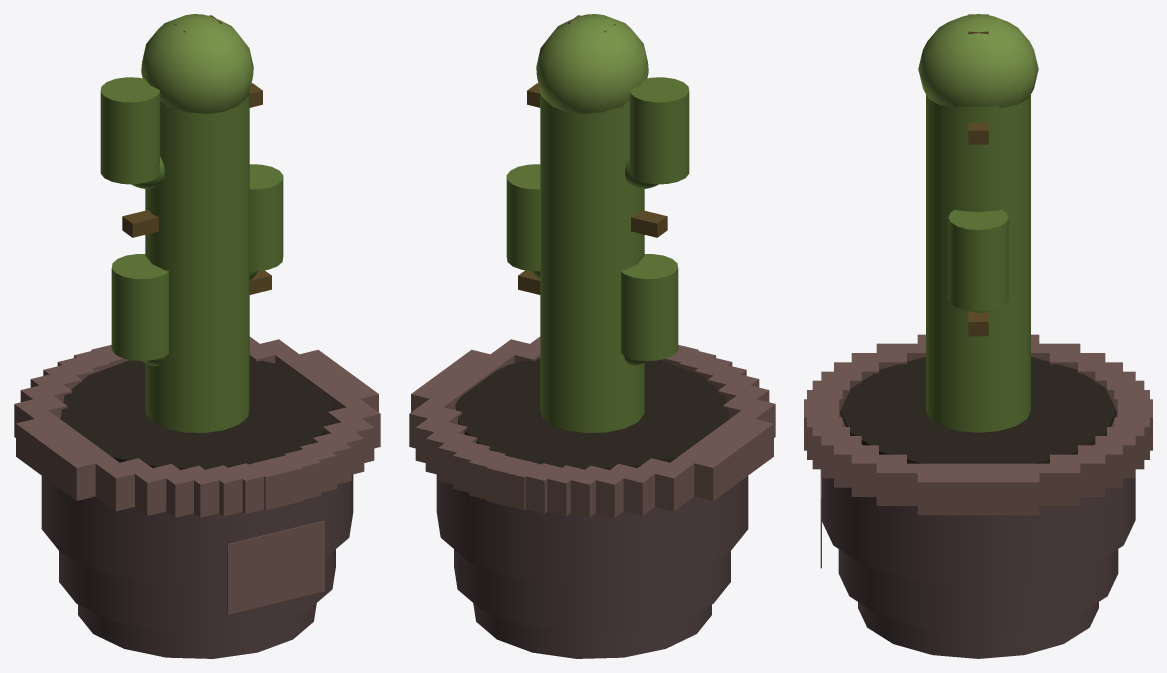
The model's file is CMU3DPottedPlant11.glb.
3 renders of one model, left to right at view 1: azimuth 30°, elevation 25°; view 2: azimuth 150°, elevation 25°; view 3: azimuth 270°, elevation 25°, orthographic.
Visible parts, largest first — view 1: upright cactus stem, hollow curved planter rim (×18), upper pot wall, recessed soil, short cactus arm (×3), lower tapered pot wall, rounded cactus crown, pot front highlight, narrow pot foot, short ochre thorn; view 2: upright cactus stem, hollow curved planter rim (×18), upper pot wall, recessed soil, short cactus arm (×3), lower tapered pot wall, rounded cactus crown, narrow pot foot, short ochre thorn; view 3: upright cactus stem, hollow curved planter rim (×17), upper pot wall, recessed soil, lower tapered pot wall, rounded cactus crown, short cactus arm, narrow pot foot, short ochre thorn.
Part boxes in pixels (<box>): upright cactus stem: <box>145,92,249,432</box>; hollow curved planter rim (×18): <box>14,339,380,517</box>; upper pot wall: <box>41,474,353,586</box>; recessed soil: <box>60,358,334,469</box>; short cactus arm (×3): <box>100,77,283,360</box>; lower tapered pot wall: <box>59,549,335,632</box>; rounded cactus crown: <box>141,14,253,113</box>; pot front highlight: <box>227,520,324,614</box>; narrow pot foot: <box>78,603,316,658</box>; short ochre thorn: <box>122,210,158,237</box>; upright cactus stem: <box>540,92,644,432</box>; hollow curved planter rim (×18): <box>409,339,775,517</box>; upper pot wall: <box>436,474,748,586</box>; recessed soil: <box>455,358,729,469</box>; short cactus arm (×3): <box>506,77,689,360</box>; lower tapered pot wall: <box>454,549,730,632</box>; rounded cactus crown: <box>536,14,648,113</box>; narrow pot foot: <box>473,603,711,658</box>; short ochre thorn: <box>631,210,667,237</box>; upright cactus stem: <box>926,95,1030,432</box>; hollow curved planter rim (×17): <box>807,343,1149,515</box>; upper pot wall: <box>822,420,1135,586</box>; recessed soil: <box>840,356,1116,463</box>; lower tapered pot wall: <box>838,549,1118,632</box>; rounded cactus crown: <box>918,14,1038,108</box>; short cactus arm: <box>948,209,1008,311</box>; narrow pot foot: <box>858,602,1098,658</box>; short ochre thorn: <box>968,311,988,336</box>.
Bounding box in the file's own units: 0.406 × 0.755 × 0.4052.
